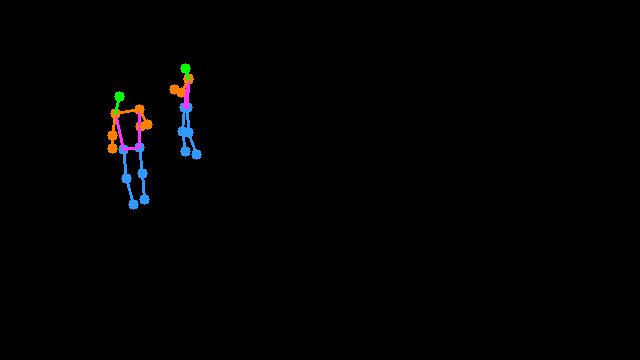normal: (86, 39, 225, 217)
